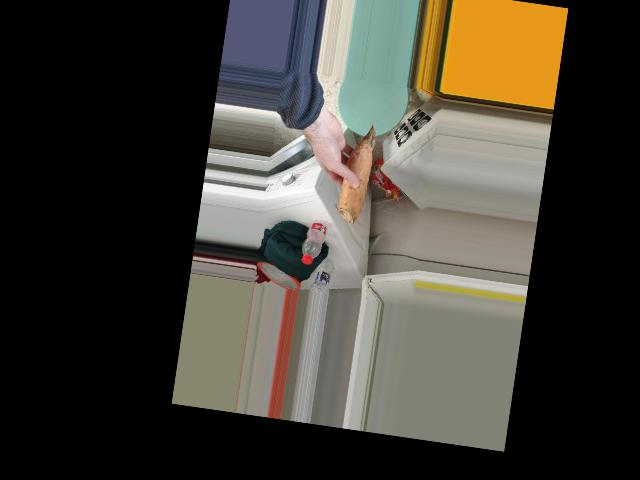sweet_potato: (328, 119, 384, 230)
